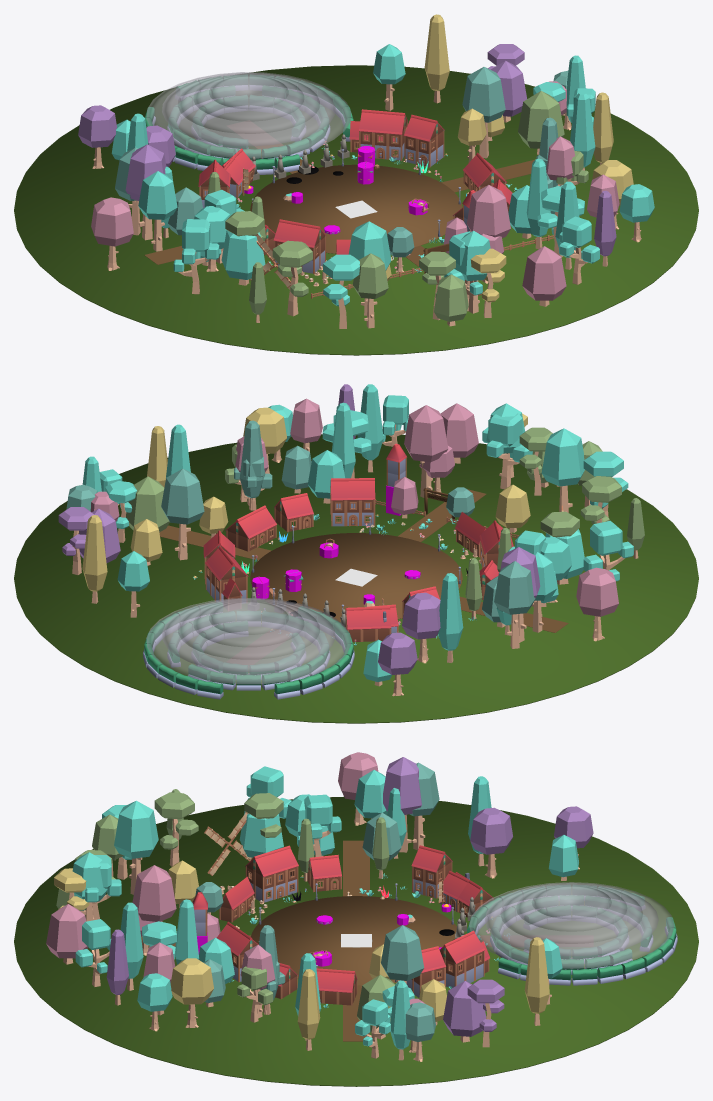
The model's file is santo_berco.glb.
3 views of the same model, one above another, from view 1: azimuth 30°, elevation 25°; view 2: azimuth 150°, elevation 25°; view 3: azimuth 270°, elevation 25° (orthographic).
Parts seen in each view (by area): view 1: GROUND_grass, static_colormap_town, static_MAT_CLOTH_mist_spiral, FLOOR_plaza, KEN_tree_oak_396, KEN_tree_default_361, KEN_tree_fat_362, KEN_tree_default_390, KEN_tree_detailed_380, KEN_tree_default_357, KEN_tree_fat_385, KEN_tree_fat_343 (+44 smaller); view 2: GROUND_grass, static_colormap_town, static_MAT_CLOTH_mist_spiral, FLOOR_plaza, KEN_tree_default_361, KEN_tree_default_391, KEN_tree_default_390, OCC_KEN_house_house0, KEN_tree_default_400, KEN_tree_oak_396, KEN_tree_detailed_375, KEN_tree_oak_371 (+51 smaller); view 3: GROUND_grass, static_colormap_town, static_MAT_CLOTH_mist_spiral, FLOOR_plaza, KEN_tree_default_391, OCC_KEN_house_house8, KEN_tree_default_390, KEN_tree_default_361, KEN_tree_oak_366, KEN_tree_oak_371, KEN_tree_default_364, KEN_tree_fat_362 (+52 smaller).
Boxes of the visible parts, box(x1,y1,x2,y2) form: GROUND_grass: box(14, 65, 698, 355); static_colormap_town: box(144, 75, 554, 298); static_MAT_CLOTH_mist_spiral: box(146, 72, 351, 158); FLOOR_plaza: box(250, 164, 462, 253); KEN_tree_oak_396: box(91, 197, 133, 270); KEN_tree_default_361: box(462, 67, 505, 158); KEN_tree_fat_362: box(522, 246, 566, 306); KEN_tree_default_390: box(466, 185, 510, 238); KEN_tree_detailed_380: box(173, 219, 219, 294); KEN_tree_default_357: box(138, 171, 177, 251); KEN_tree_fat_385: box(518, 91, 564, 154); KEN_tree_fat_343: box(221, 230, 265, 285); GROUND_grass: box(14, 434, 698, 723); static_colormap_town: box(143, 499, 563, 699); static_MAT_CLOTH_mist_spiral: box(146, 598, 351, 684); FLOOR_plaza: box(250, 533, 462, 622); KEN_tree_default_361: box(161, 468, 204, 560); KEN_tree_default_391: box(541, 428, 584, 512); KEN_tree_default_390: box(404, 405, 448, 497); OCC_KEN_house_house0: box(330, 478, 375, 526); KEN_tree_default_400: box(494, 561, 535, 648); KEN_tree_oak_396: box(576, 567, 618, 641); KEN_tree_detailed_375: box(482, 413, 532, 489); KEN_tree_oak_371: box(402, 592, 440, 663); GROUND_grass: box(14, 796, 698, 1086); static_colormap_town: box(197, 811, 677, 1005); static_MAT_CLOTH_mist_spiral: box(469, 882, 674, 968); FLOOR_plaza: box(251, 896, 456, 985); KEN_tree_default_391: box(114, 800, 158, 894); OCC_KEN_house_house8: box(245, 845, 298, 902); KEN_tree_default_390: box(132, 865, 176, 921); KEN_tree_default_361: box(381, 925, 424, 983); KEN_tree_oak_366: box(170, 958, 213, 1027); KEN_tree_oak_371: box(470, 807, 512, 878); KEN_tree_default_364: box(383, 757, 421, 852); KEN_tree_fat_362: box(46, 904, 88, 964).
Bounding box in the file's own units: 140 × 27.09 × 140.
Materials: 32 (1 with a texture image).
